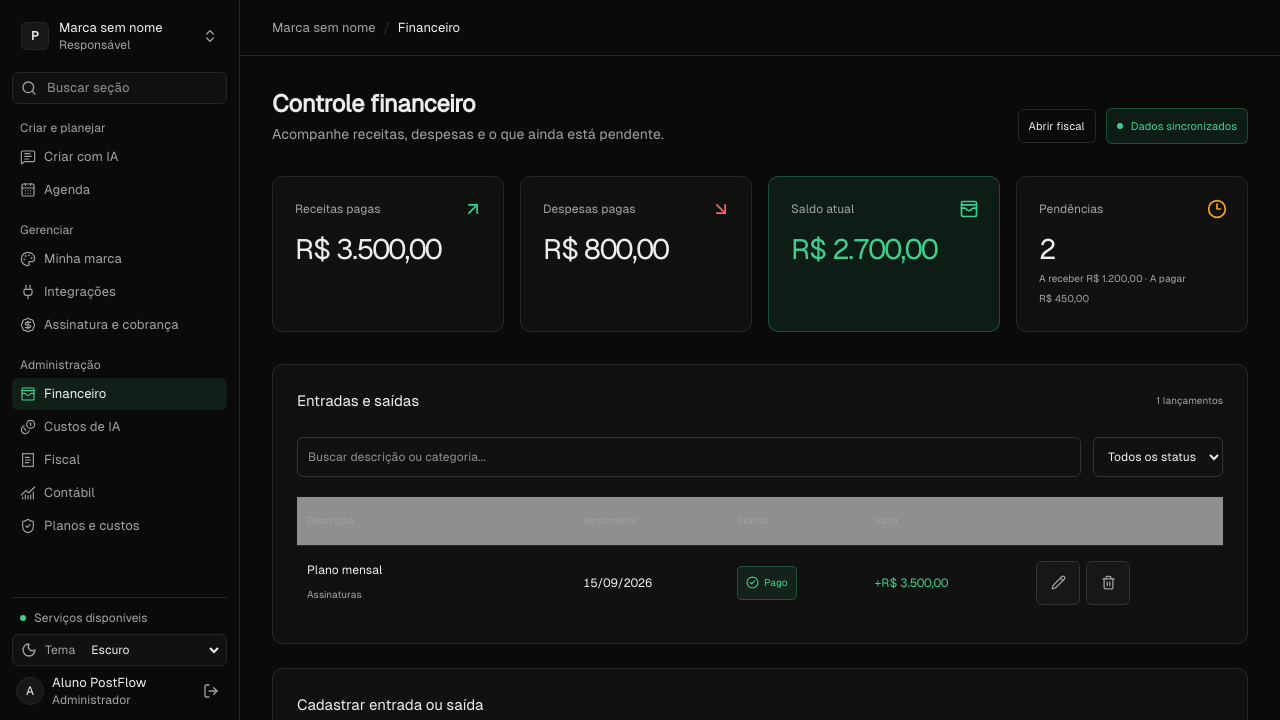
Test: FinancePage › filtra por descrição e status sem alterar os totais financeiros
The width and height of the screenshot is (1280, 720).
Check: the text "Plano mensal" is shown, box [307, 563, 382, 577]
In the search field named "Buscar lançamentos": (689, 457) [297, 437, 1081, 477], type "inexistente"
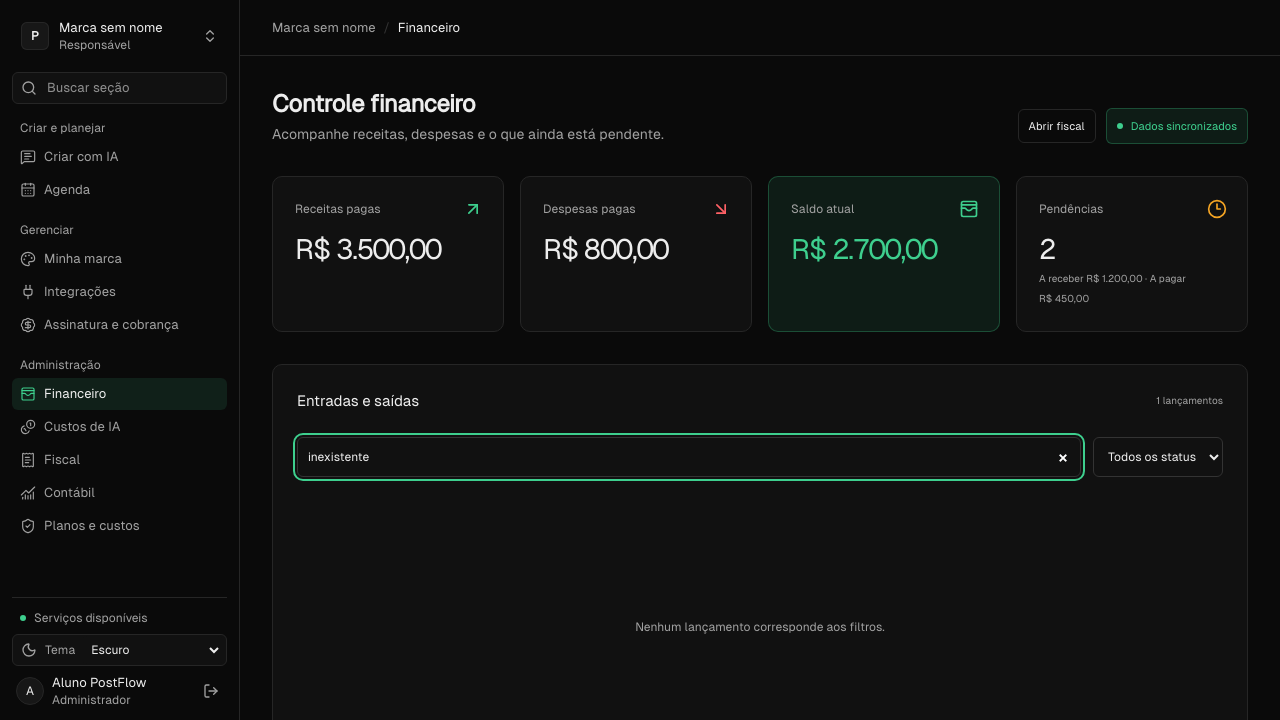
Check: the text "R$ 2.700,00" is shown, box [791, 233, 937, 265]
Check: the text "Plano mensal" is gone
Check: the text "Nenhum lançamento corresponde aos filtros." is shown, box [635, 620, 885, 634]
Clear the search field named "Buscar lançamentos": (689, 457) [297, 437, 1081, 477]
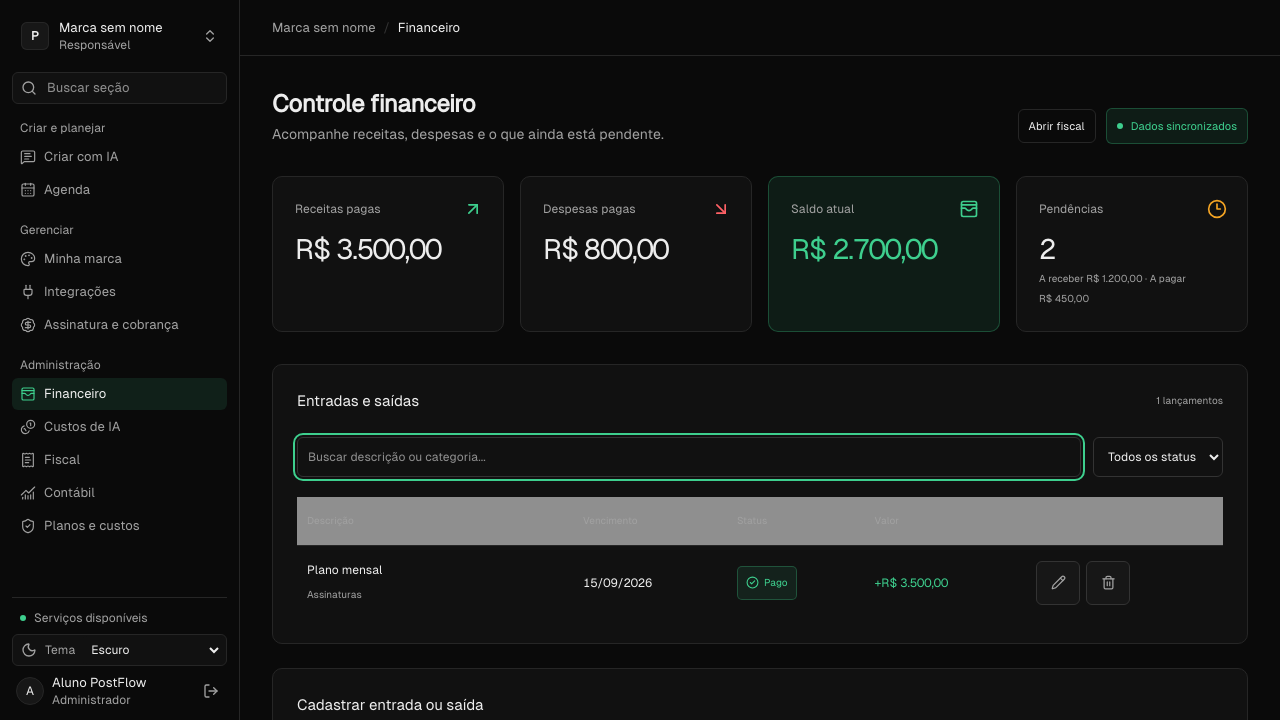
Select "Pendentes" in the dropdown named "Filtrar por status": (1158, 457) [1093, 437, 1223, 477]
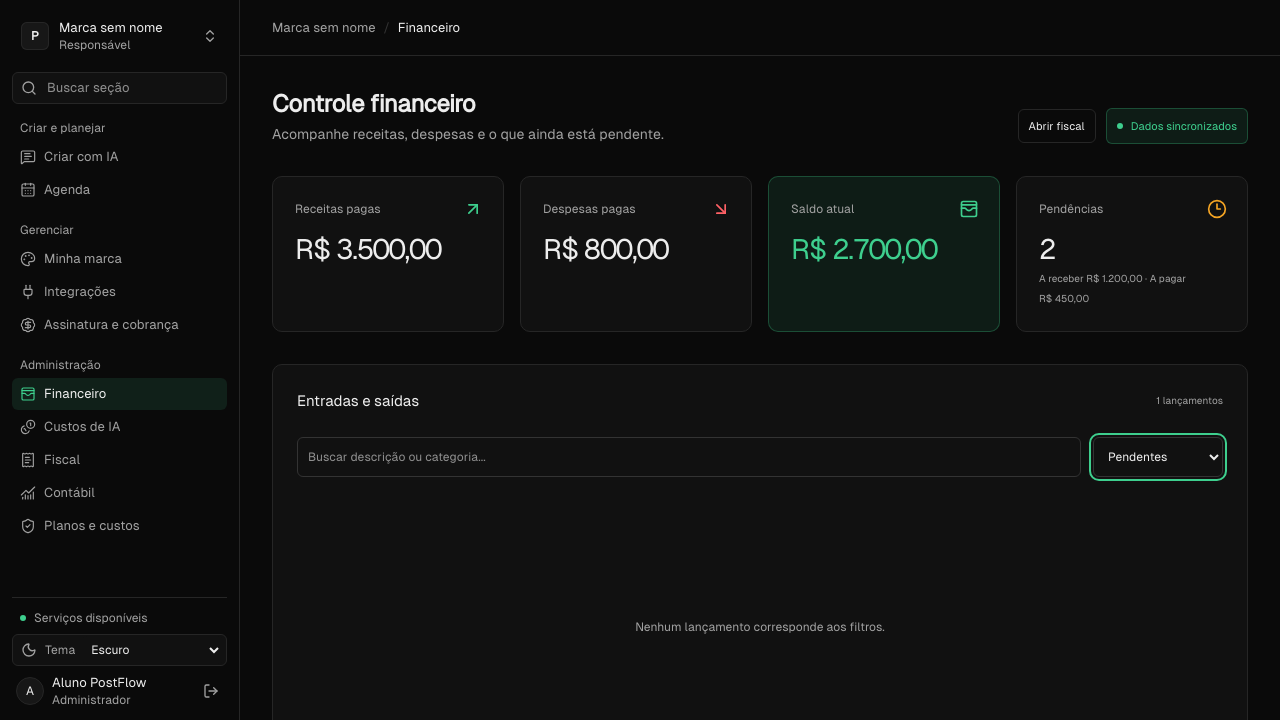
Check: the text "Plano mensal" is gone
Select "Pagos" in the dropdown named "Filtrar por status": (1158, 457) [1093, 437, 1223, 477]
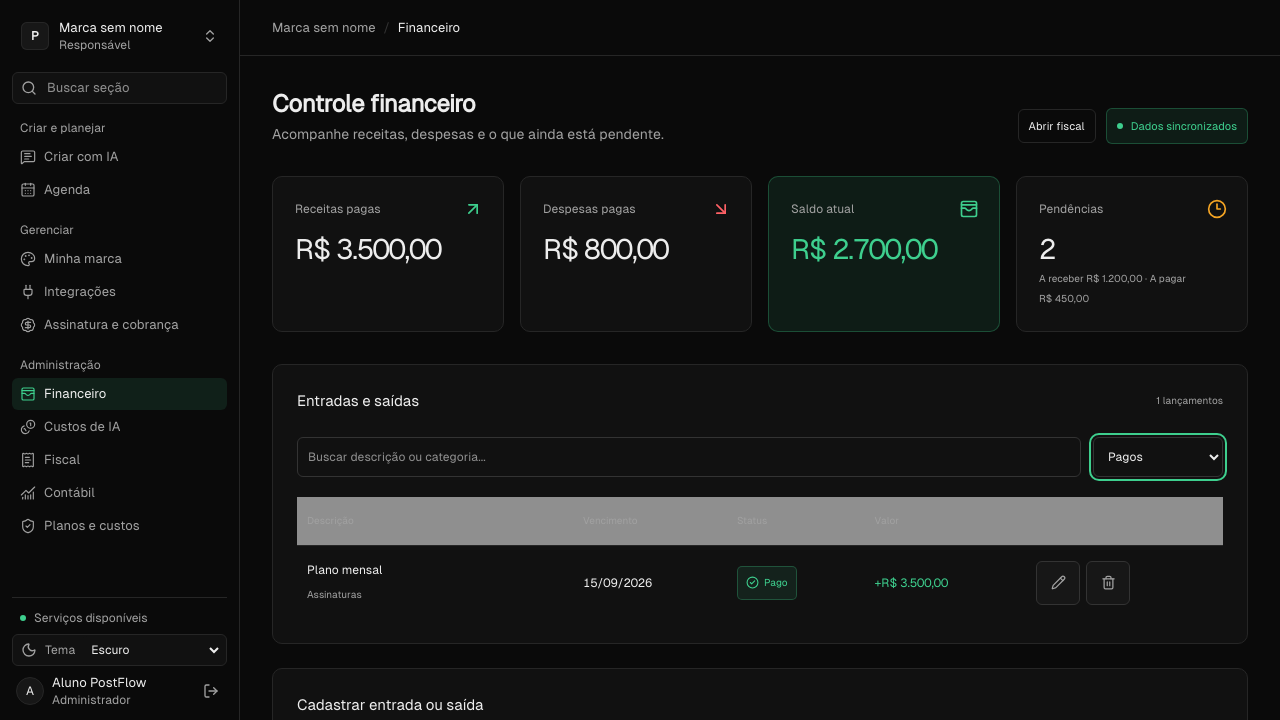
Check: the text "Plano mensal" is shown, box [307, 563, 382, 577]
